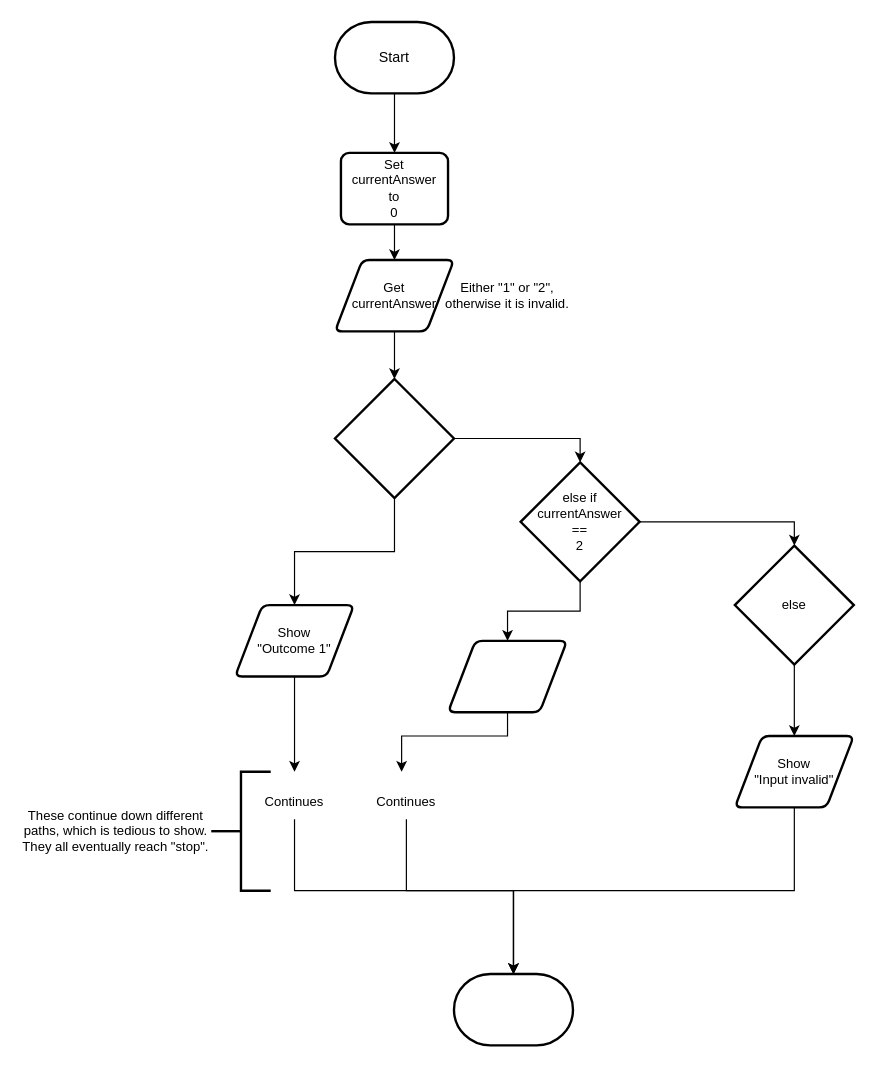
This 875x1066 diagram has some shape labels left out. The shapes that lost their labels are listed below. From the top down, each one's centre as x and y in pixels, then its label:
point 394,438: if currentAnswer == 1
point 507,676: Show "Outcome 2"
point 513,1009: Stop
